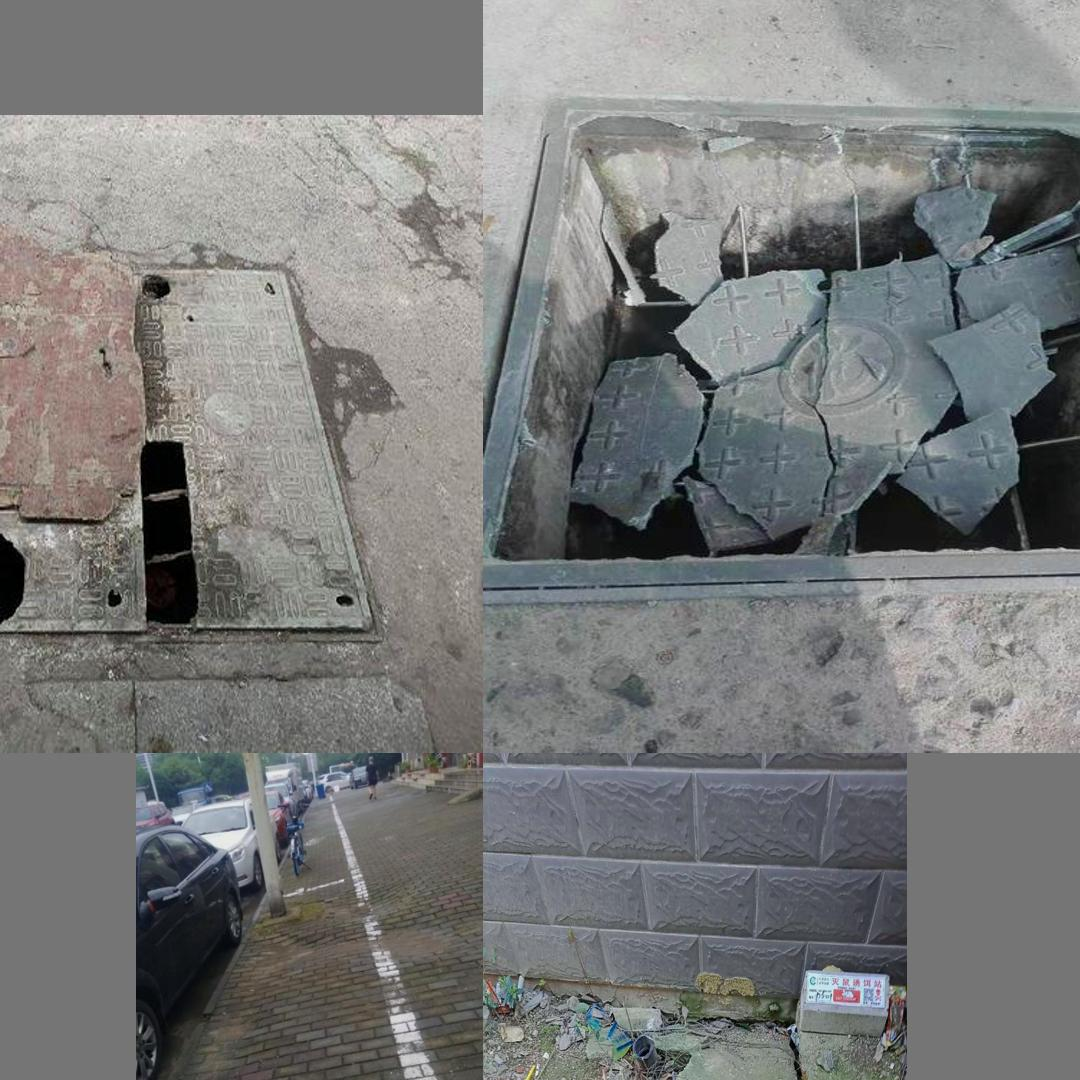broke: (503, 103, 1080, 608), (0, 237, 383, 671)
